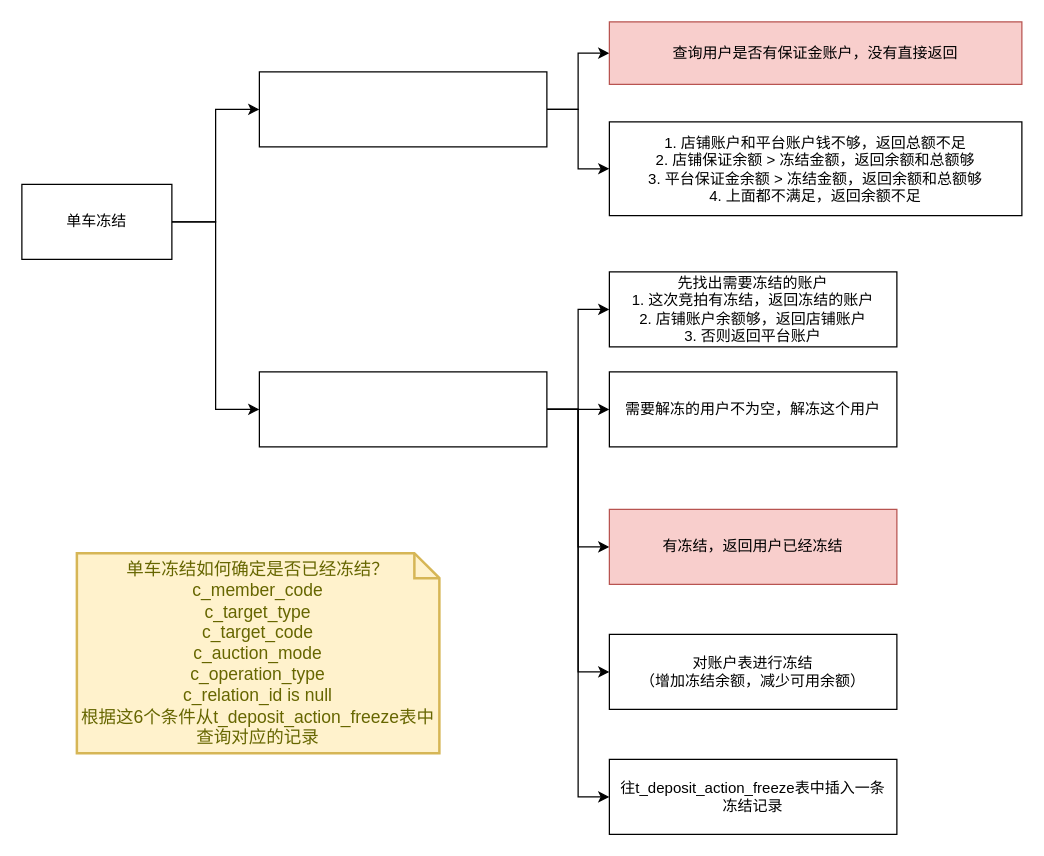
Some shapes in this 1044 by 856 pixel diagram are drawn without their labels. The shapes that lost their labels are listed below. From the top down, each one's box as (x1, y1, x2, y2) in pixels, then its label:
(258, 71, 547, 147): DepositActionFreezeService#check 主要校验保证金总额和余额是否足够
(258, 371, 547, 447): DepositActionFreezeService#freeze
